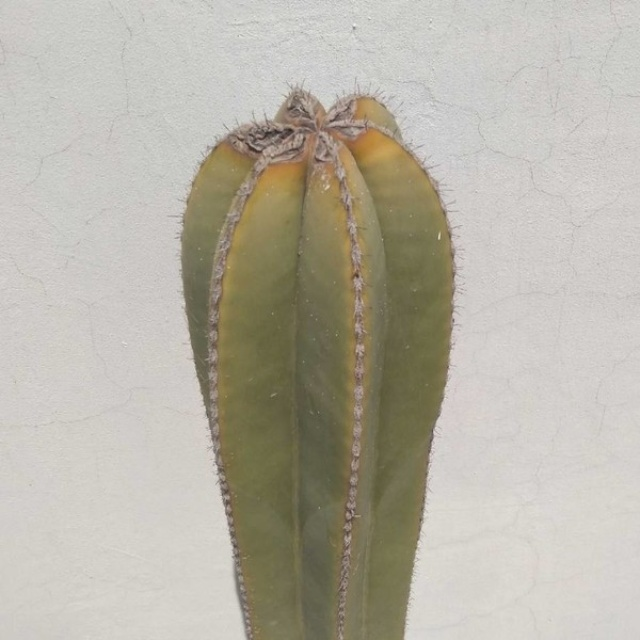obstacle: (149, 67, 457, 630)
